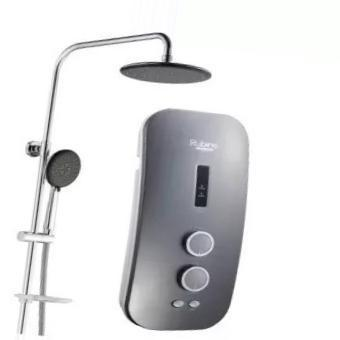Ducha: (0, 26, 259, 339)
